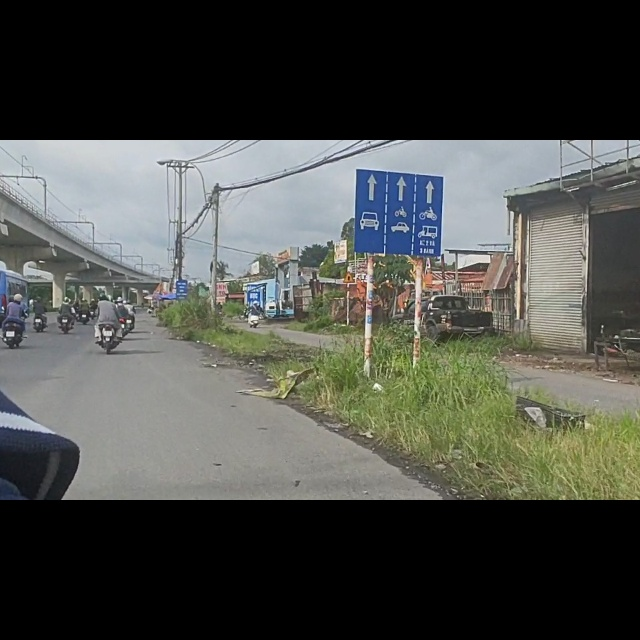bien_chi_dan: (353, 45, 447, 212), (342, 230, 356, 255)
